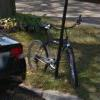Bicycle: (23, 16, 86, 89)
